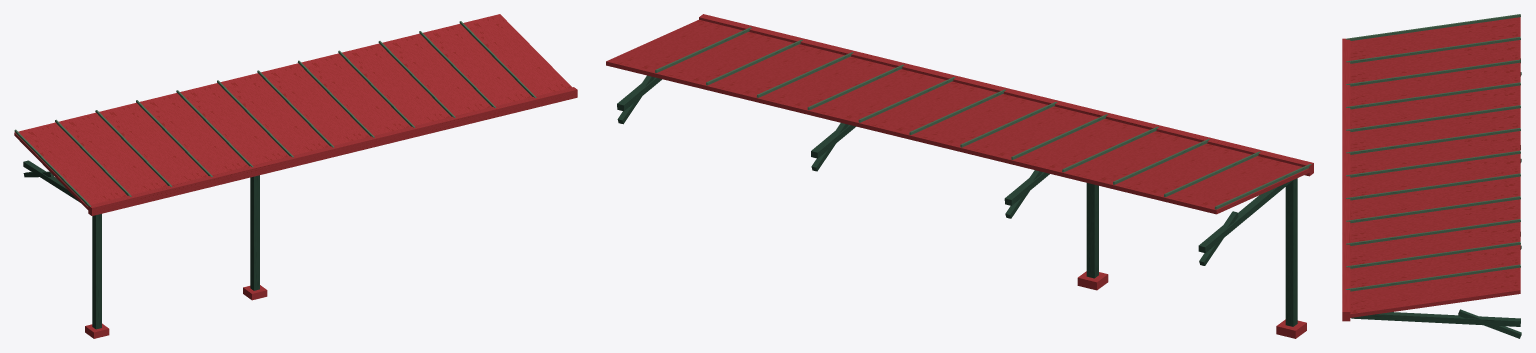
File: ShopCanopy.fbx
The picture shows the model from 3 angles, left to right: view 1: azimuth 30°, elevation 25°; view 2: azimuth 150°, elevation 25°; view 3: azimuth 270°, elevation 25°; orthographic projection. The views are drawn at different scales.
Parts seen in each view (by area): view 1: ShopCanopy; view 2: ShopCanopy; view 3: ShopCanopy.
Part boxes in pixels (x1=…): ShopCanopy: x1=14, y1=14, x2=577, y2=338; ShopCanopy: x1=606, y1=14, x2=1313, y2=338; ShopCanopy: x1=1342, y1=14, x2=1521, y2=338.
Bounding box in the file's own units: 1260 × 383 × 350.
